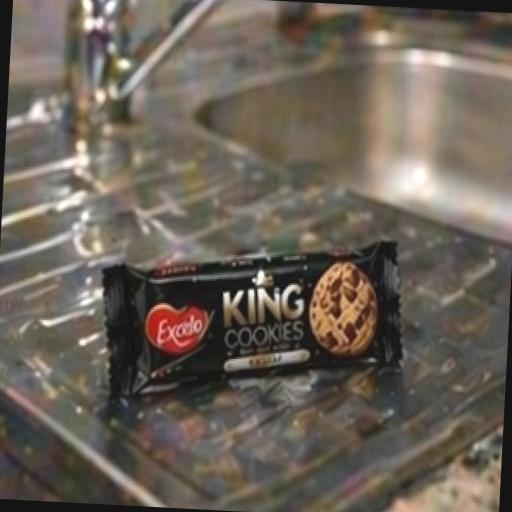king-cooking: (58, 196, 466, 476)
